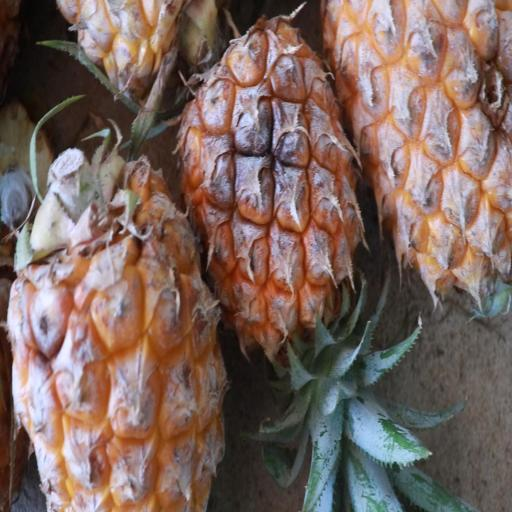Pineapple - v8 v1: (172, 8, 362, 422), (8, 157, 225, 512), (323, 0, 512, 298)
